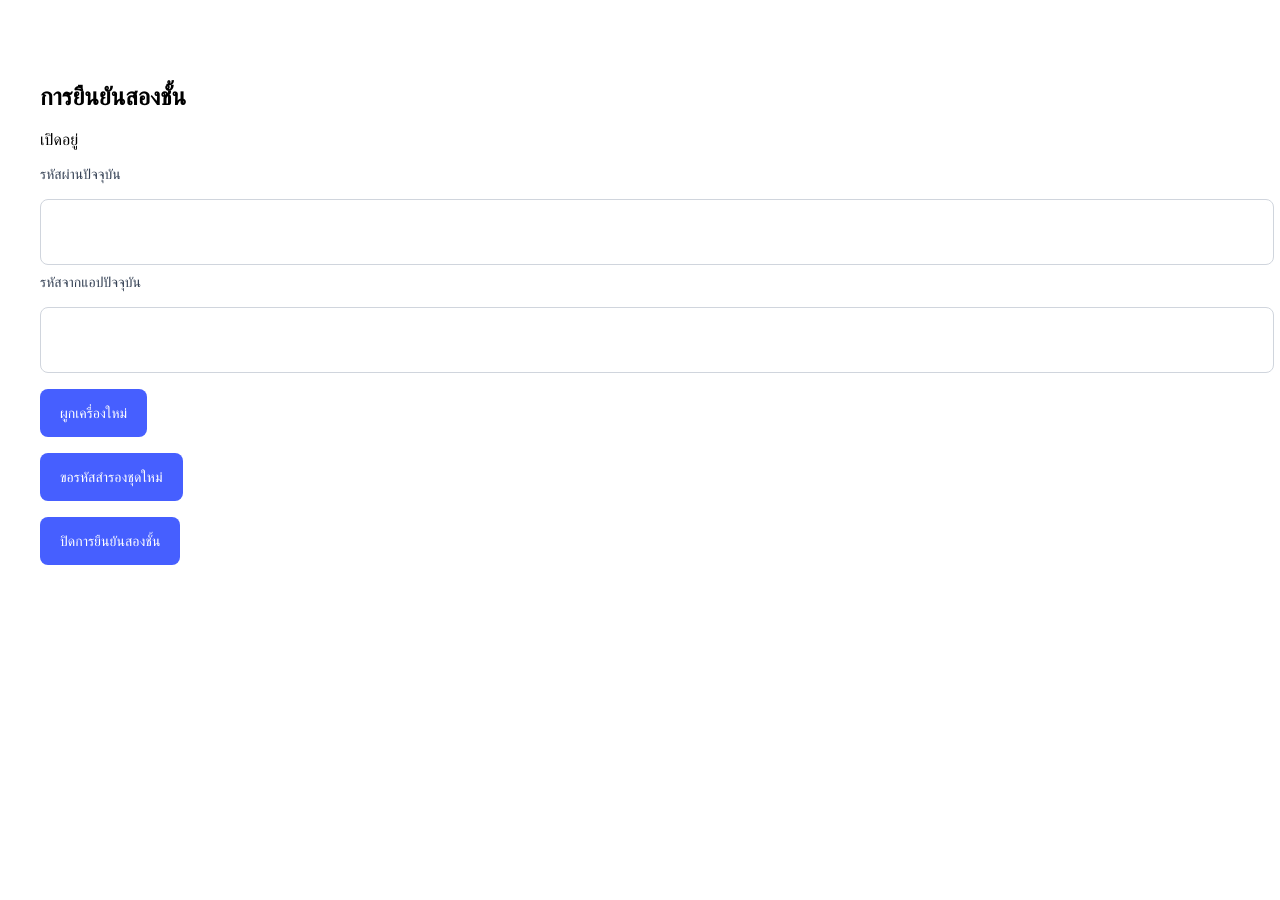
Test case: shows reissued recovery codes and clears the existing credential fields
The image size is (1280, 900).
In the password field labelled "รหัสผ่านปัจจุบัน": (657, 232) [40,199,1274,265], type "test-password-only"
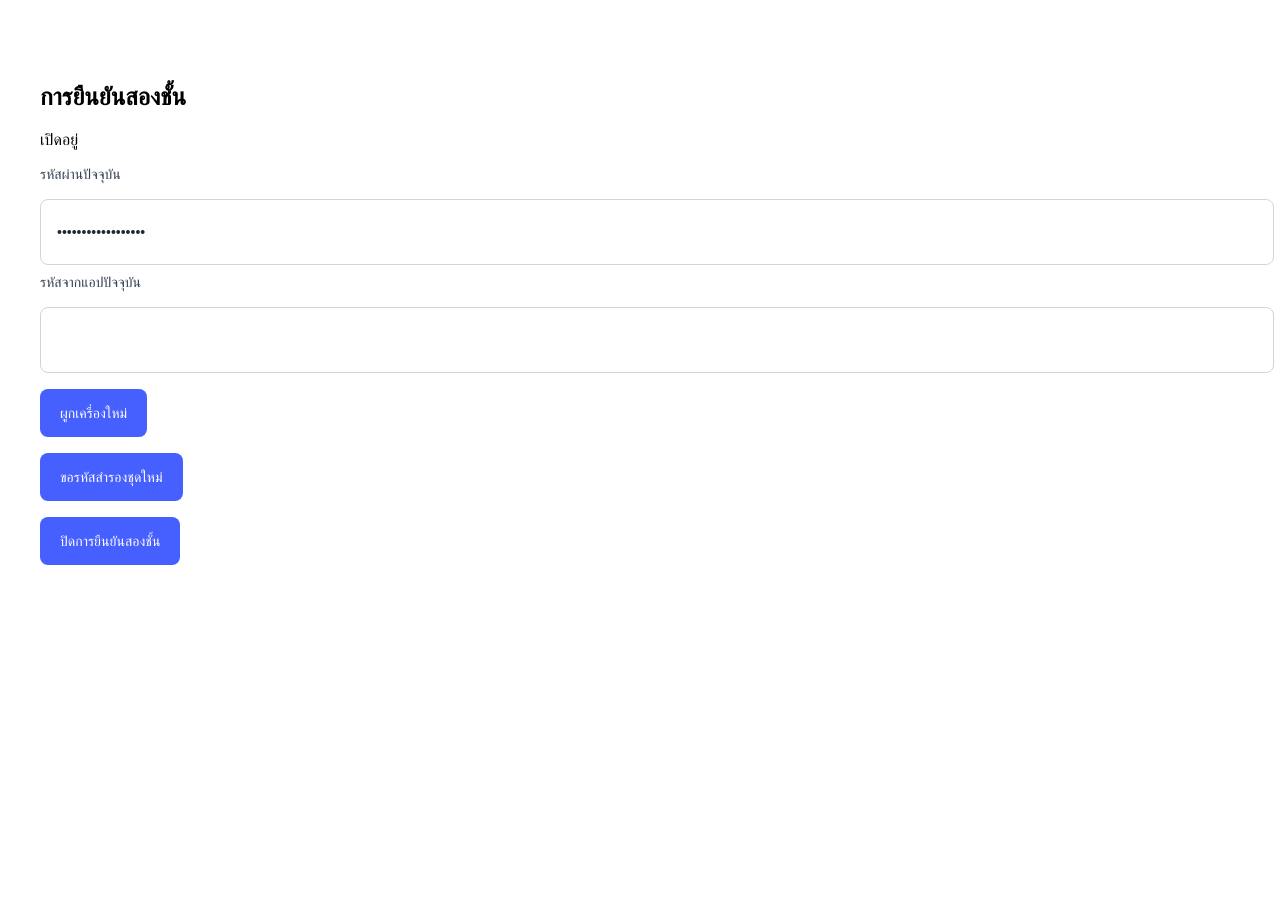
In the field labelled "รหัสจากแอปปัจจุบัน": (657, 340) [40,307,1274,373], type "123456"
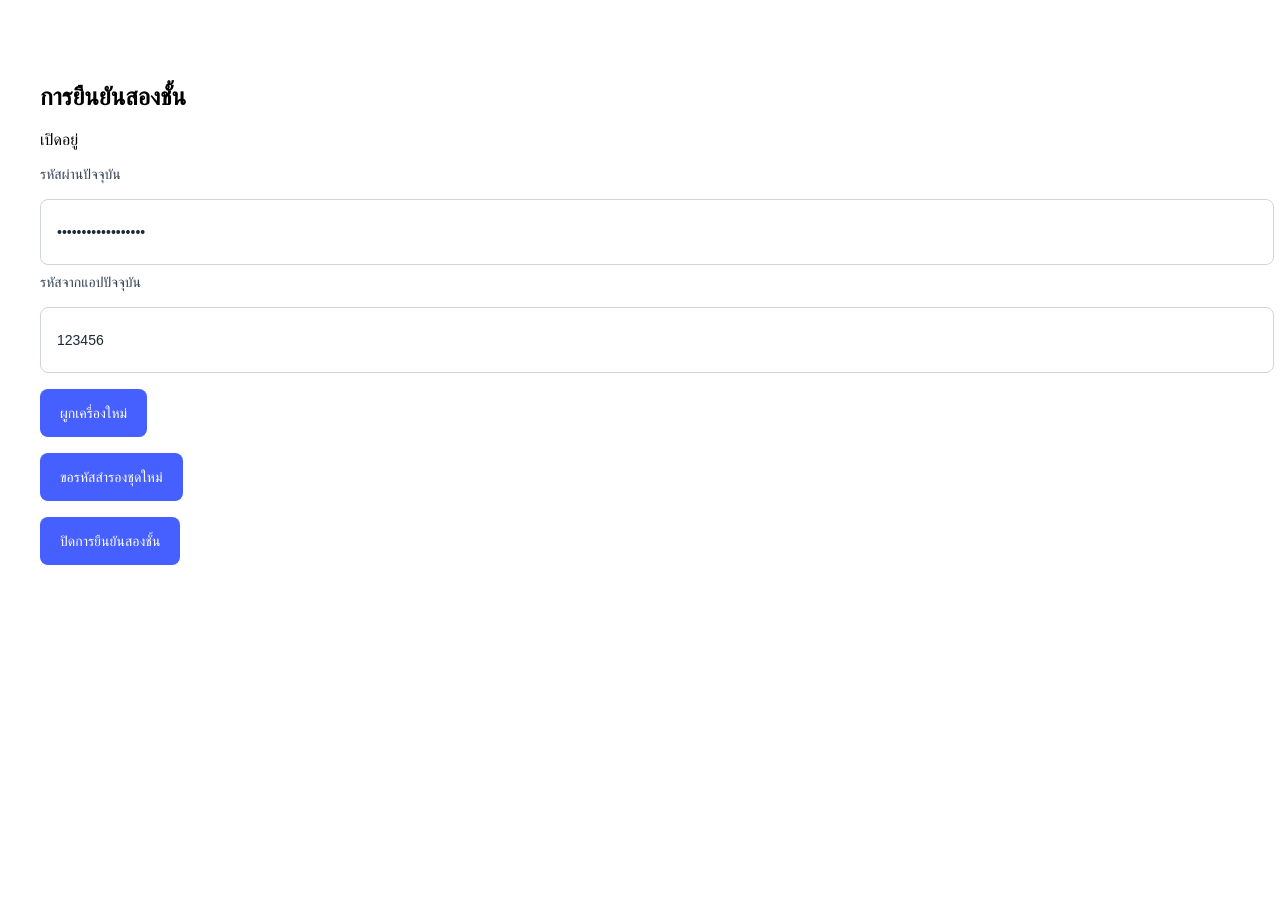
Click the button with test id "reissue-codes": (111, 477) [40,453,182,501]
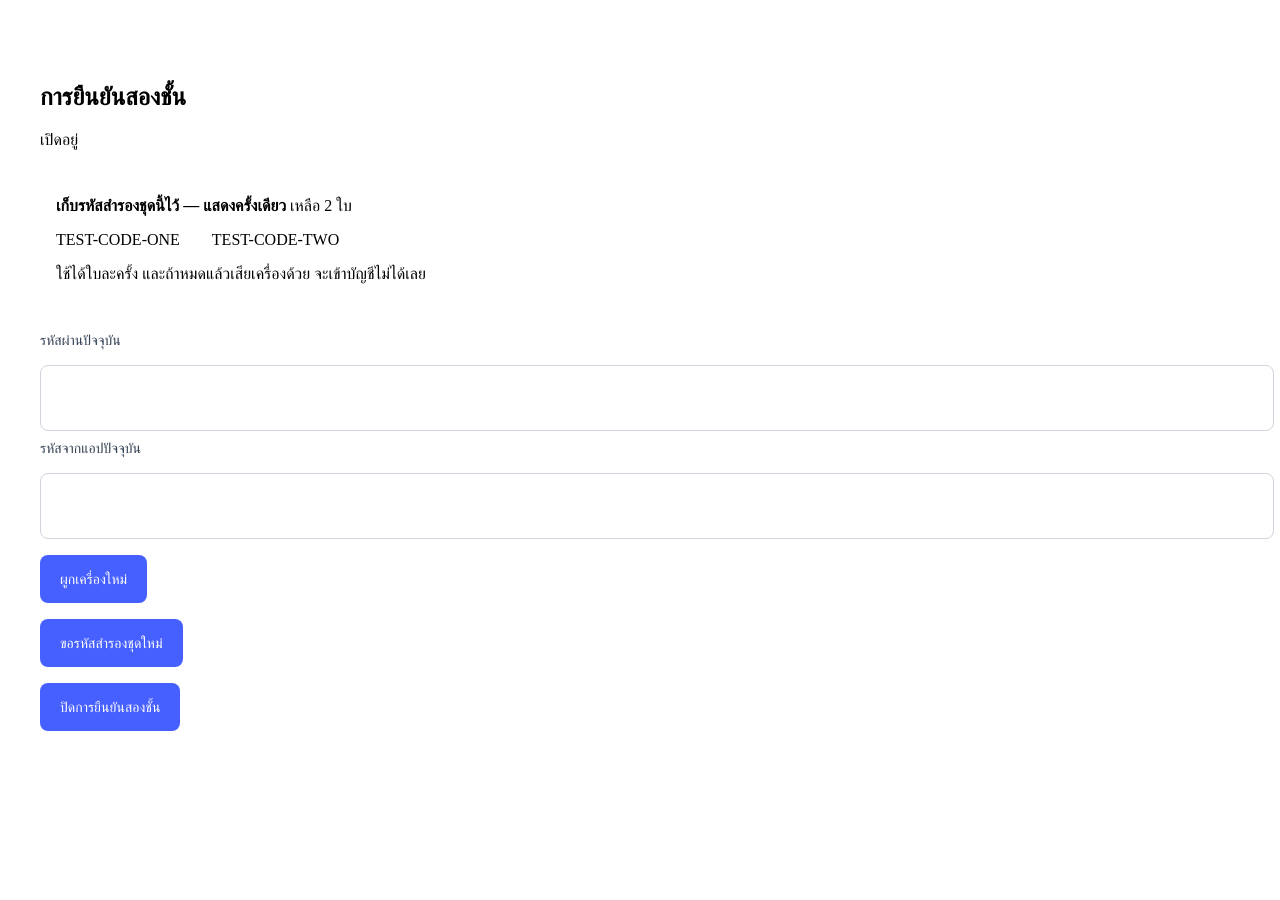
Now the element with test id "recovery-codes" shows "TEST-CODE-ONE", box [56,231,180,248]
Now the password field labelled "รหัสผ่านปัจจุบัน" is empty, box [40,365,1274,431]
Now the field labelled "รหัสจากแอปปัจจุบัน" is empty, box [40,473,1274,539]
